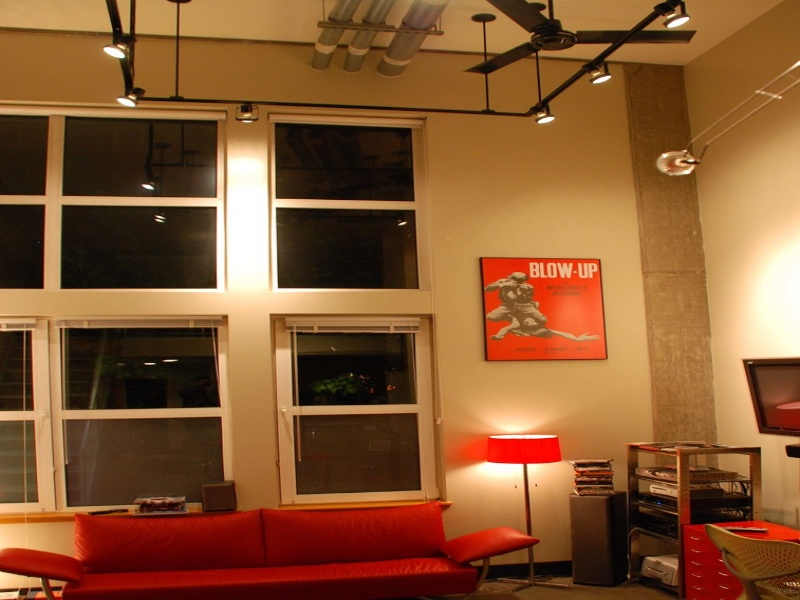couch: (3, 505, 539, 589)
tv: (740, 352, 800, 443)
